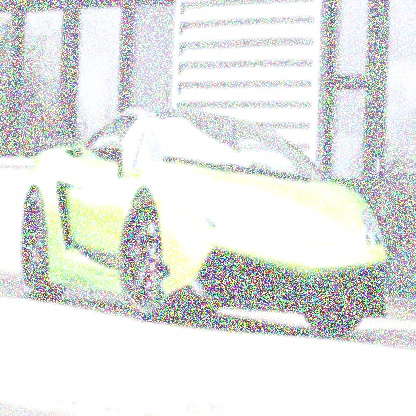Vehicle: (20, 101, 392, 346)
